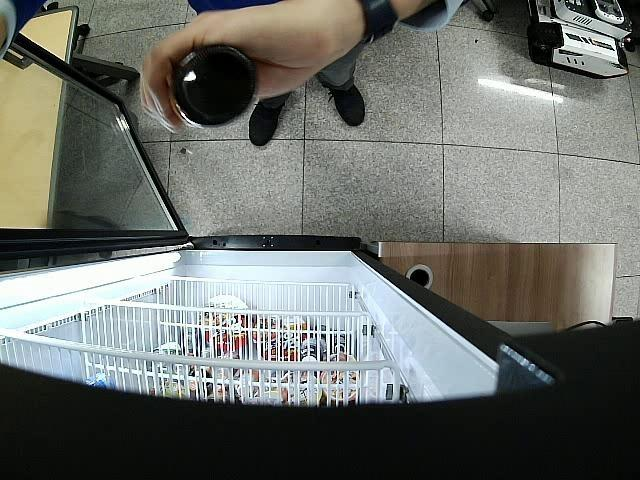17_vita500: (174, 42, 258, 130)
